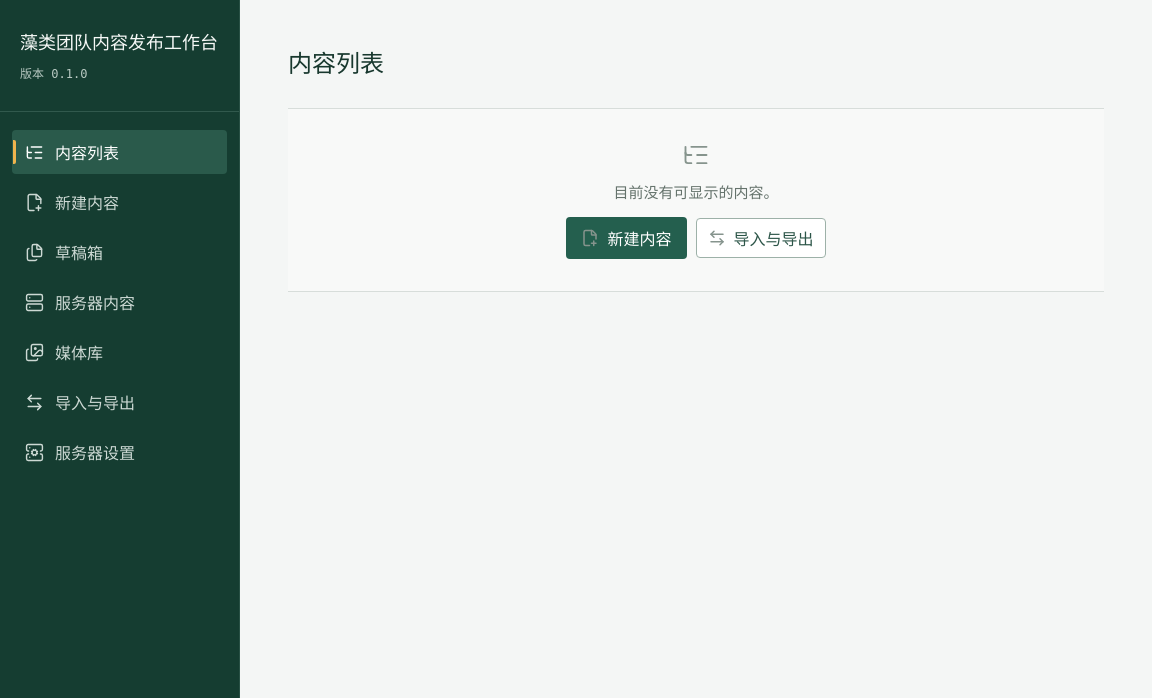
Test case: loads server aliases and opens or edits matching content
This screenshot has width=1152, height=698.
What coordinates should you click on to do the following:
click the button "服务器内容"
I would click on:
 (120, 302)
Its box is [12,280,227,324].
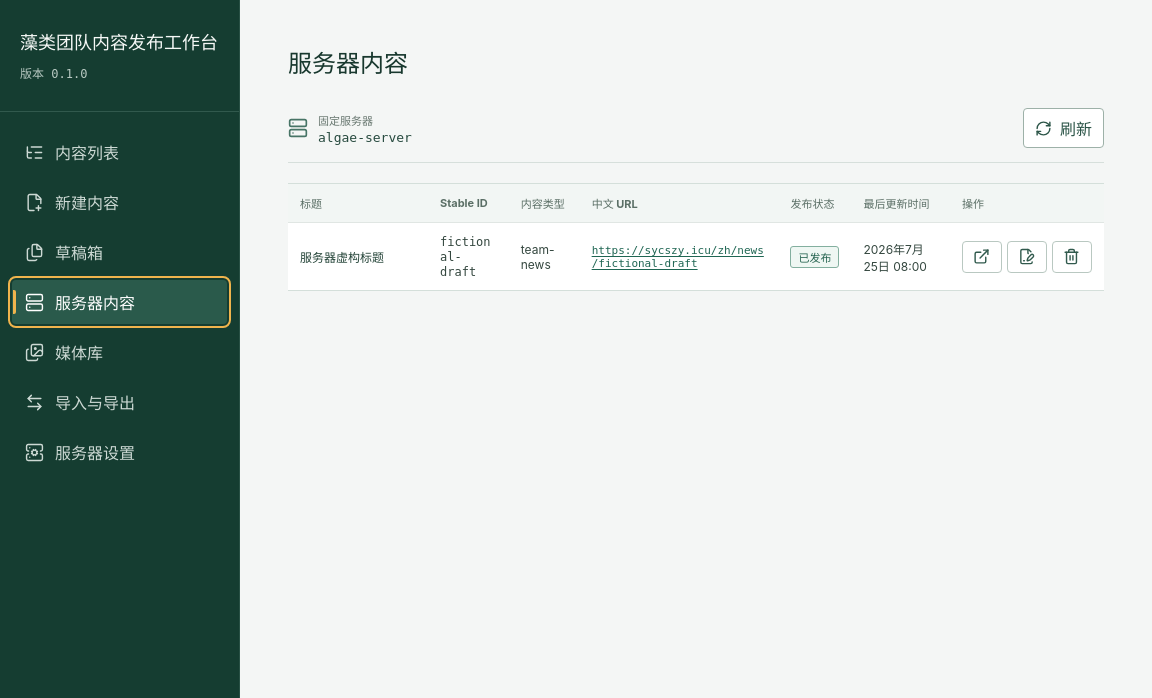
Result: the text "服务器虚构标题" is shown at [288,223,428,290]
Result: the link "https://sycszy.icu/zh/news/fictional-draft" is shown at [592,244,766,270]
Result: the text "已发布" is shown at [790,246,839,268]
What coordinates should you click on to do the following:
click the button named "查看 服务器虚构标题"
I would click on:
 (982, 257)
Its box is [962,241,1002,273].
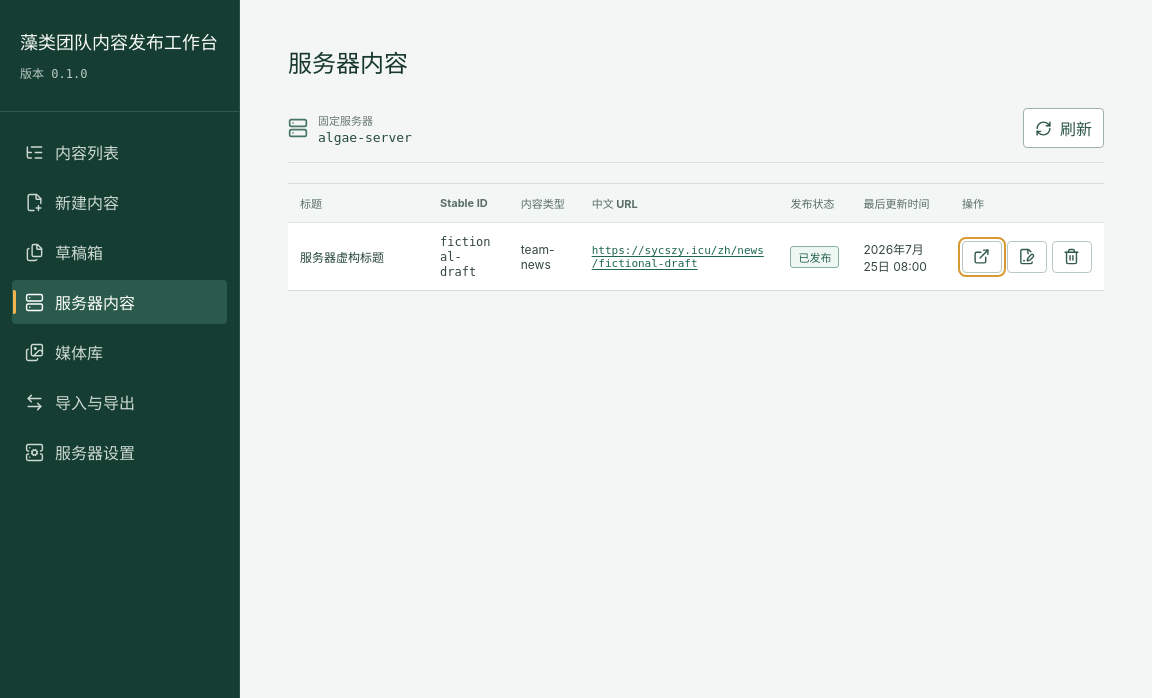
What coordinates should you click on to do the following:
click the button named "查看 服务器虚构标题"
I would click on:
 (982, 257)
Its box is [962,241,1002,273].
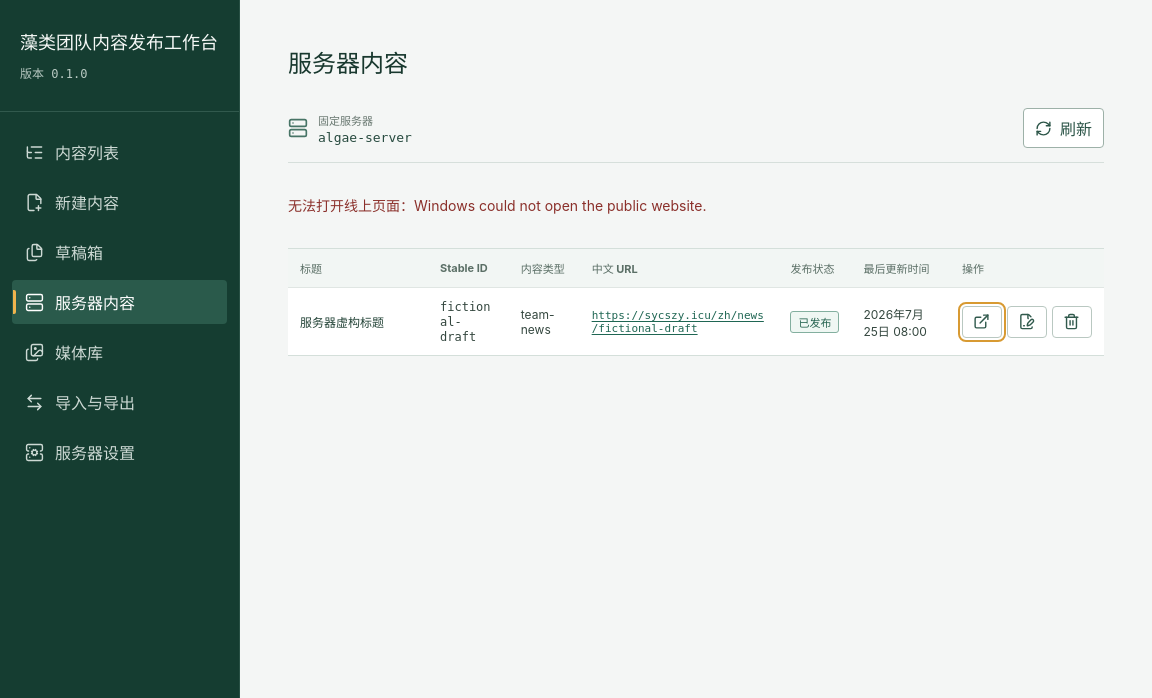
Result: the message reads "无法打开线上页面：Windows could not open the public website." at [288,197,706,214]
What coordinates should you click on to do the following:
click the button named "编辑 服务器虚构标题"
I would click on:
 (1027, 322)
Its box is [1007,306,1047,338].
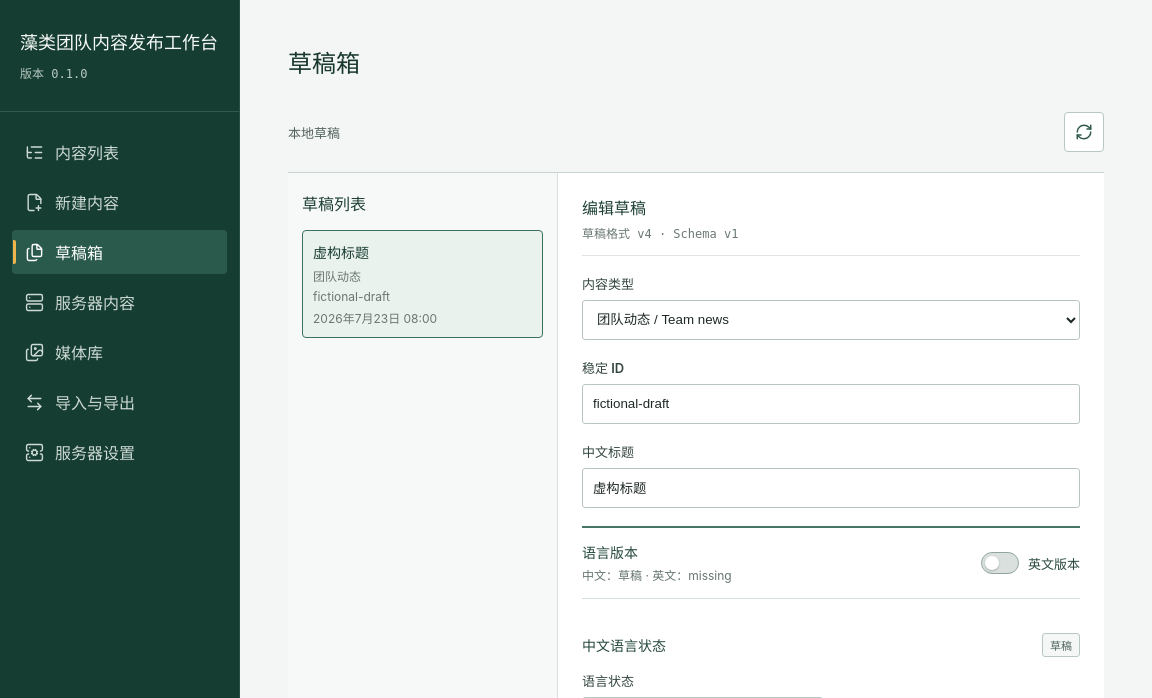
Result: the heading "草稿箱" is shown at [288,49,360,78]
Result: the field showing "虚构标题" is shown at [582,468,1080,508]
